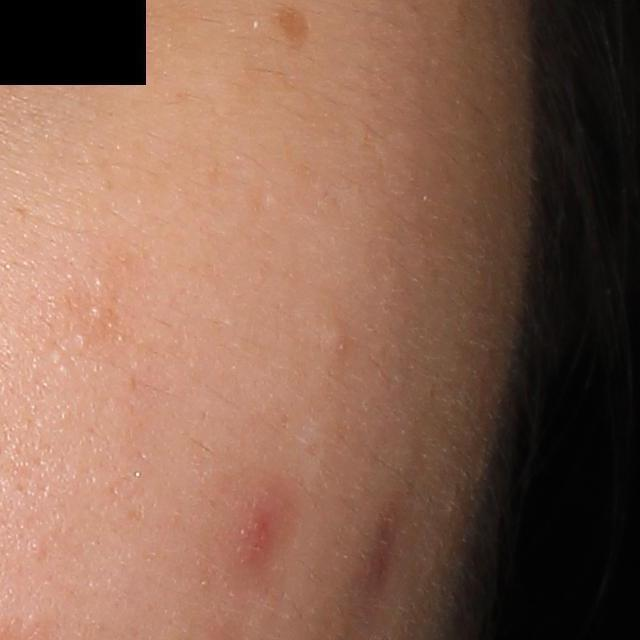comedo: (321, 324, 353, 366)
melasma: (275, 2, 312, 55)
papule: (219, 496, 272, 563)
